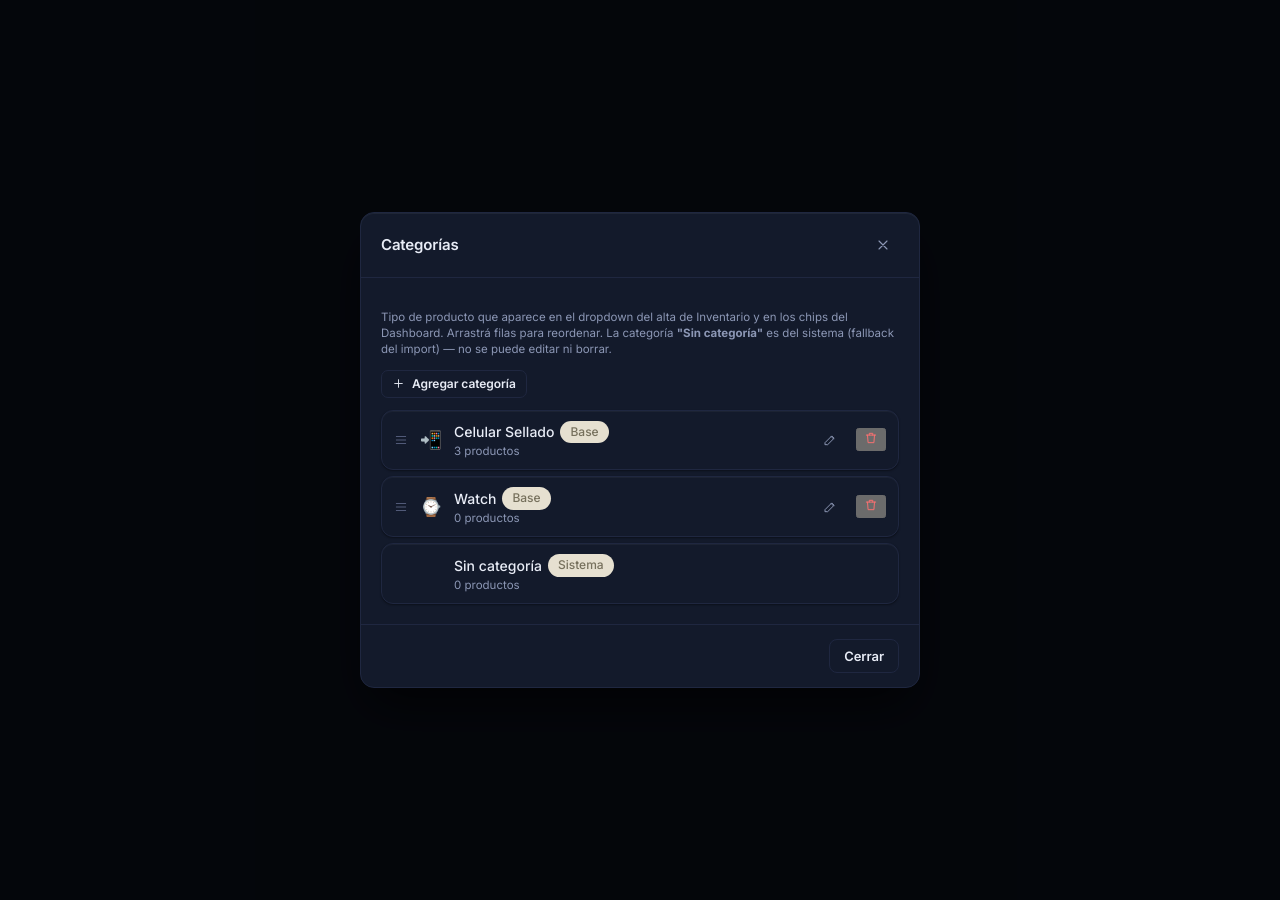
Test: CategoriasProductoModal › click "Editar" en una fila abre el modal secundario con datos
Click the button named "Editar" in the row of "Watch".
click(830, 507)  # box [814, 491, 846, 523]
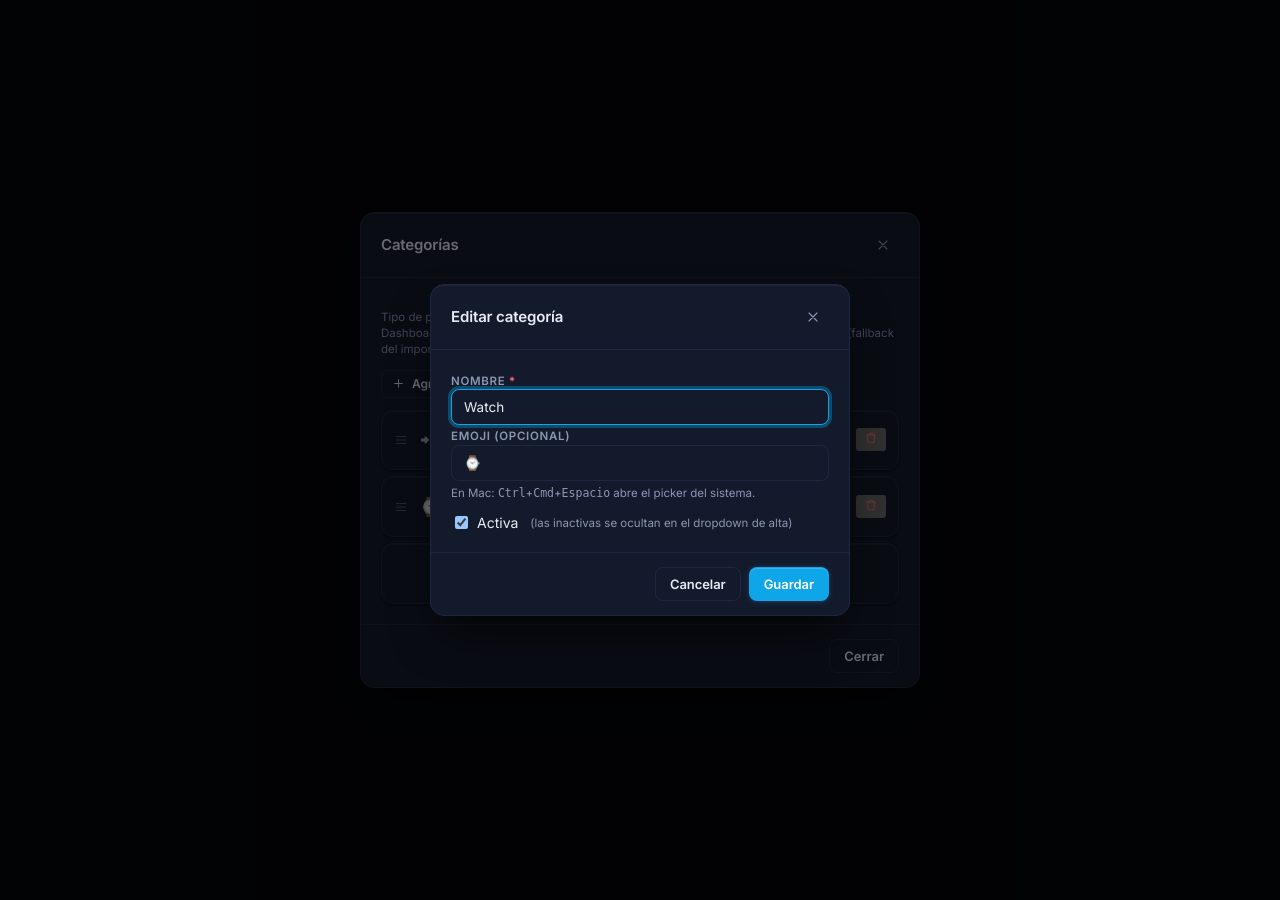
Expected: the heading "Editar categoría" is shown, [451, 306, 563, 327]
Expected: the field labelled "Nombre *" holds "Watch", [451, 389, 829, 425]
Expected: the field labelled "Emoji (opcional)" holds "⌚", [451, 445, 829, 481]
